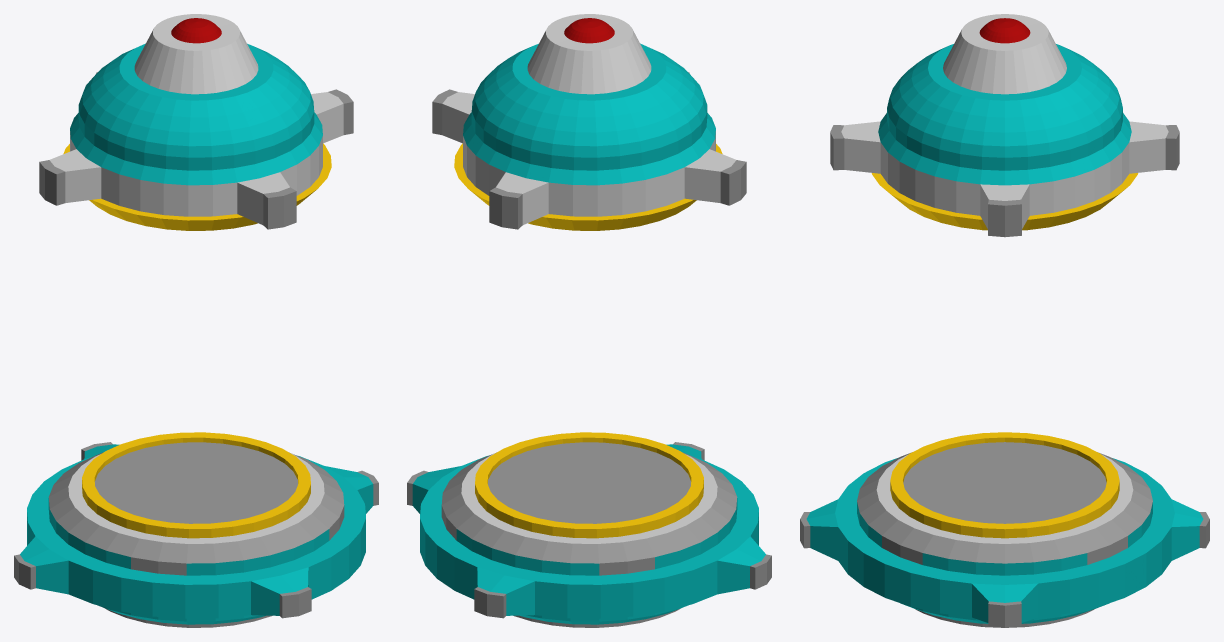
Rendered from Teleporter.fbx.
3 views of the same model, side by side, from view 1: azimuth 30°, elevation 25°; view 2: azimuth 150°, elevation 25°; view 3: azimuth 270°, elevation 25° (orthographic).
Visible parts, largest first — view 1: Cylinder, Cylinder.001; view 2: Cylinder, Cylinder.001; view 3: Cylinder, Cylinder.001.
Boxes of the visible parts, x1,y1,x2,y2 form: Cylinder: (14, 432, 378, 627); Cylinder.001: (39, 14, 353, 230); Cylinder: (407, 432, 771, 627); Cylinder.001: (432, 14, 746, 230); Cylinder: (800, 432, 1209, 627); Cylinder.001: (830, 14, 1179, 237).
Bounding box in the file's own units: 357 × 536 × 357.
